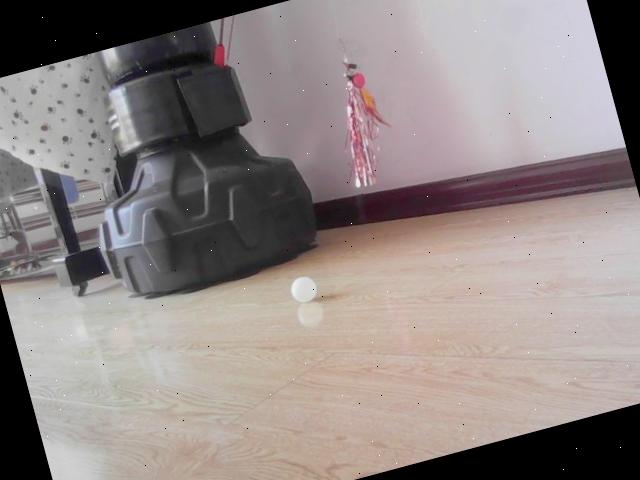ball: (289, 274, 320, 304)
